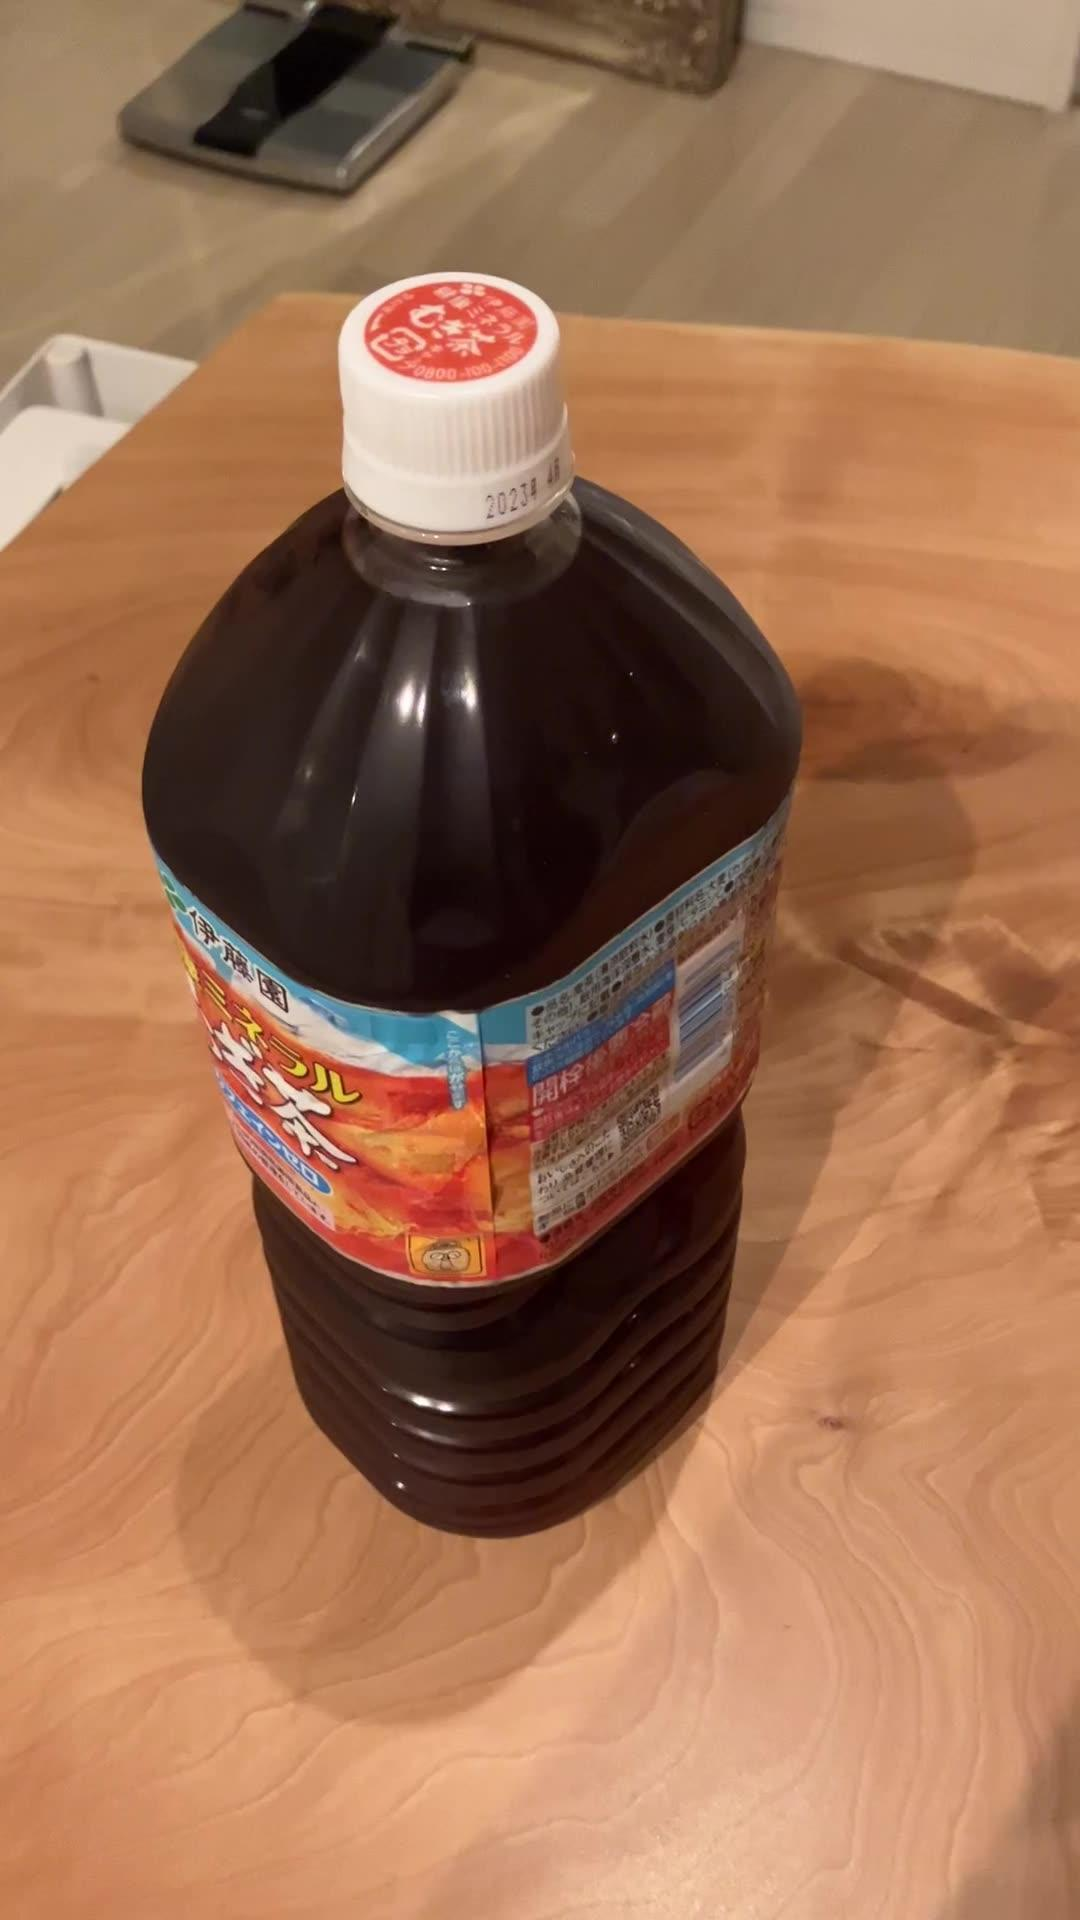BIODEGRADABLE: (135, 266, 807, 1548)
